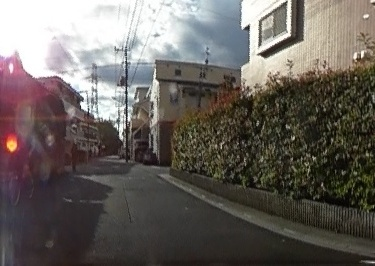person: (13, 127, 36, 184), (70, 142, 78, 168)
